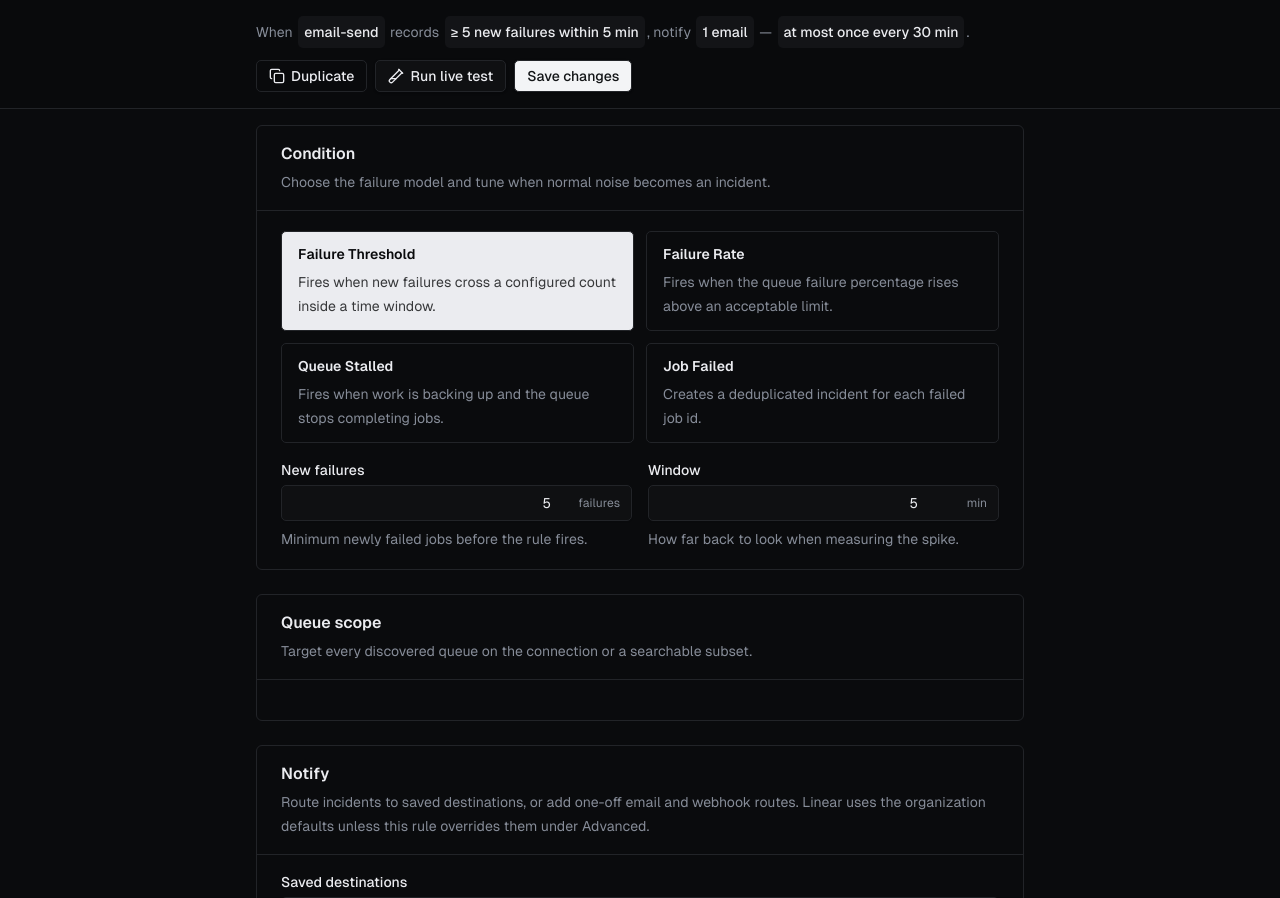
Test: AlertRuleBuilder › runs a live test in edit mode and surfaces the result
The image size is (1280, 898).
Click the button "Run live test" at (441, 76), box [376,60,506,92]
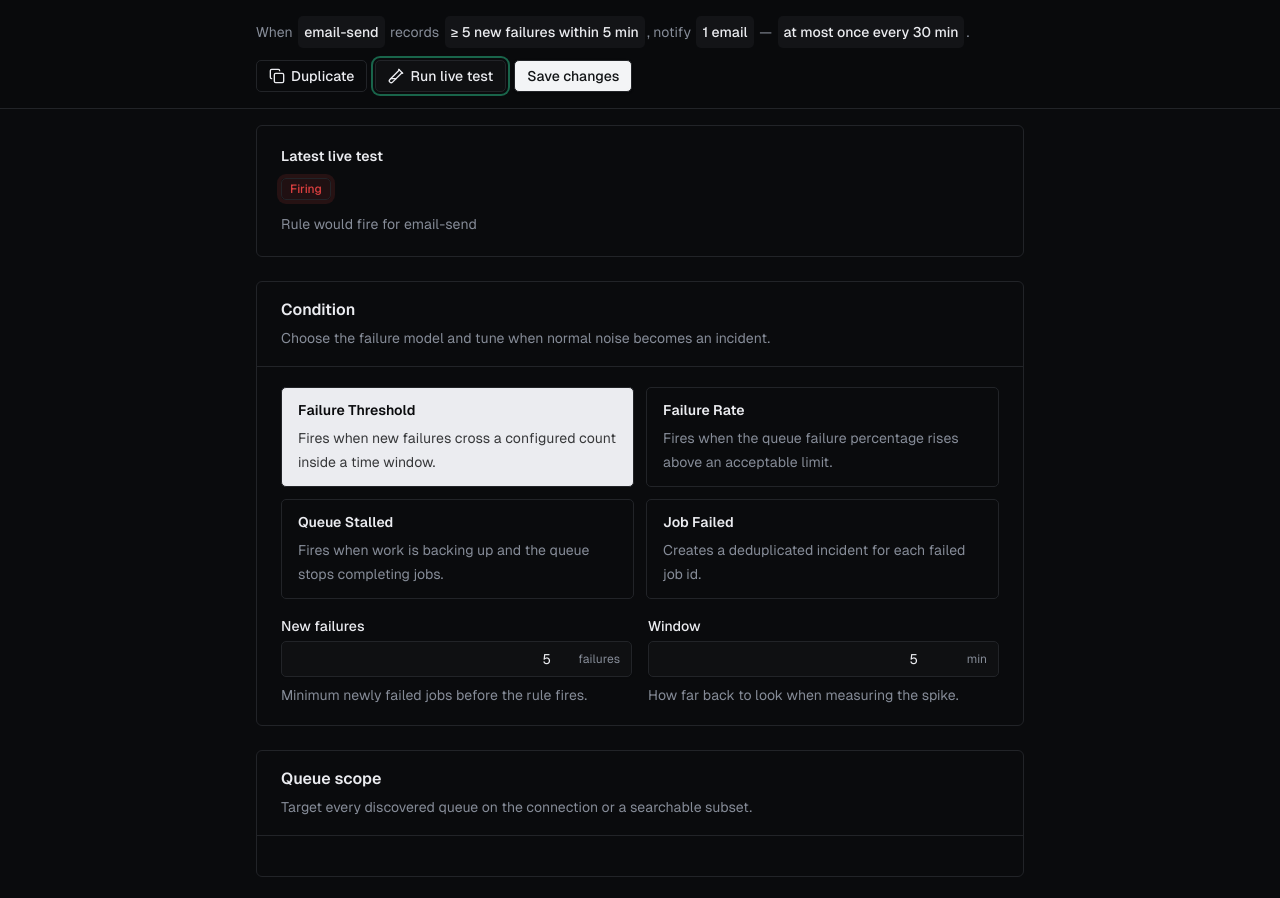
Result: the heading "Latest live test" is shown at [281,148,383,164]
Result: the text "Rule would fire for email-send" is shown at [281,216,477,232]
